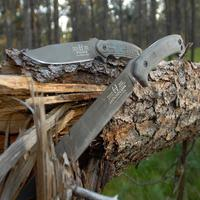knife: (40, 31, 183, 184), (19, 30, 139, 69)
